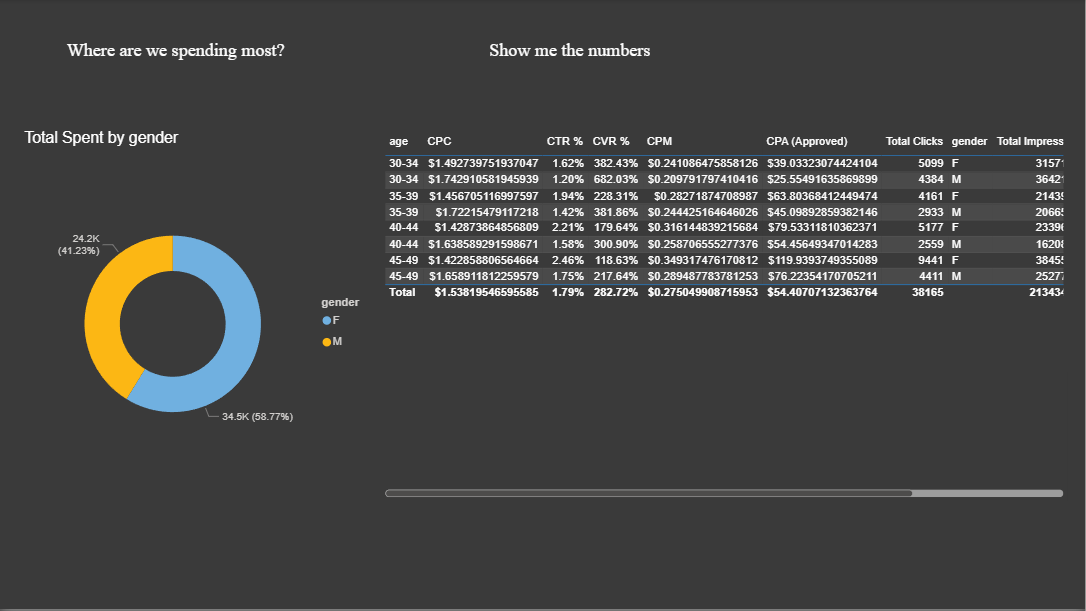

The page's visual inventory and layout, read from the dashboard file:
{"tool":"powerbi","page":{"name":"Page 3","canvas":[1280,720],"ordinal":2},"visuals":[{"type":"donutChart","fields":{"Category":["data.gender"],"Y":["data.Total Spent"]},"box":[23.6,153.4,424.8,439.5],"z":0},{"type":"textbox","box":[73.7,42.8,280.2,42.8],"z":1000},{"type":"textbox","box":[572.3,42.8,584.1,67.8],"z":2000},{"type":"tableEx","fields":{"Values":["data.age","data.CPC","data.CTR %","data.CVR %","data.CPM","data.CPA (Approved)","data.Total Clicks","data.gender","data.Total Impressions","data.Total Spent","data.Total Conversions"]},"box":[448.4,153.4,811.2,439.5],"z":3000}]}

Visuals, with their boxes in screenshot pixels (x1, y1, x2, y2), scaled from the page's 1280x720 canvas onto the 1086x611 screenshot:
donutChart - data.gender x data.Total Spent: [x1=20, y1=130, x2=380, y2=503]
textbox: [x1=63, y1=36, x2=300, y2=73]
textbox: [x1=486, y1=36, x2=981, y2=94]
tableEx - data.age x data.CPC: [x1=380, y1=130, x2=1069, y2=503]
